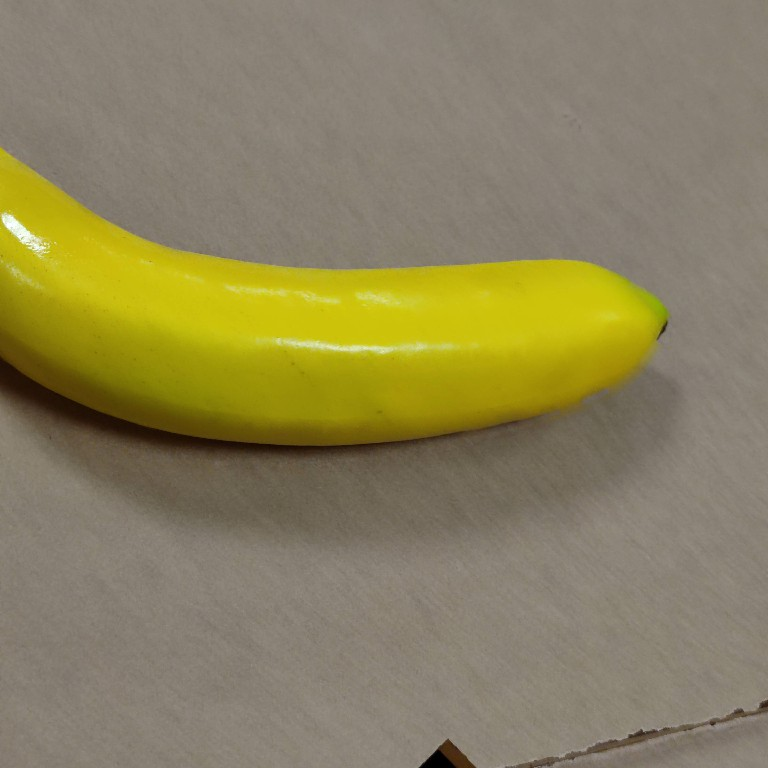fruit_banana: (1, 145, 673, 455)
